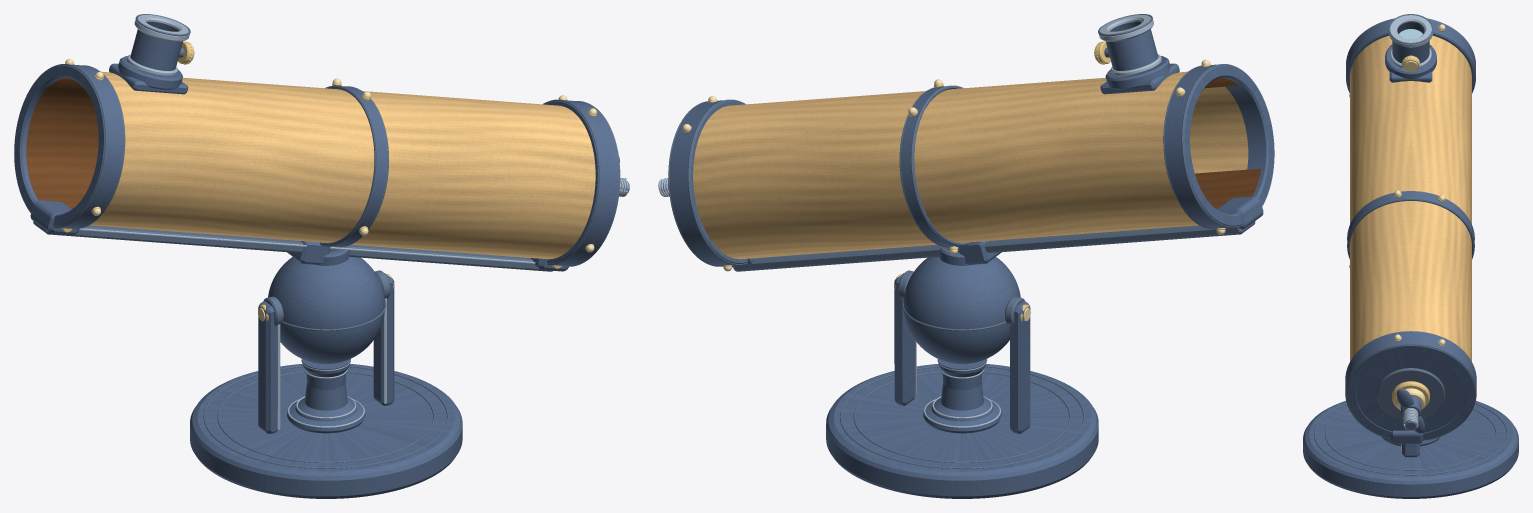
The model's file is Newton-Step2-Cover.glb.
3 renders of one model, left to right at view 1: azimuth 30°, elevation 25°; view 2: azimuth 150°, elevation 25°; view 3: azimuth 270°, elevation 25°, orthographic. The views are drawn at different scales.
Parts seen in each view (by area): view 1: Tube_BackShell, Base_CircularPedestal, Mount_SphericalJoint, Tube_BackInterior, Mount_LowerRail, Band_Front_Near, Band_Rear_Near, Mount_TurnedColumn, Mount_Upright_-1, Band_Front_Far, Band_Middle_Near, Tube_BackShell.001 (+8 smaller); view 2: Tube_BackShell.001, Base_CircularPedestal, Mount_SphericalJoint, Tube_BackShell, Mount_LowerRail, Band_Front_Far, Band_Rear_Far, Mount_TurnedColumn, Band_Front_Near, Mount_Upright_-1, Band_Middle_Far, Mount_Upright_1 (+7 smaller); view 3: Tube_BackShell, Tube_BackShell.001, Base_CircularPedestal, Tube_RearClosure, Band_Rear_Far, Band_Rear_Near, Tube_RearEndStep, Band_Front_Near, Eyepiece_UpperLip, Band_Front_Far, Band_Middle_Far, Band_Middle_Near (+11 smaller).
Boxes of the visible parts, <box> form: Tube_BackShell: <box>89,76,595,259</box>; Base_CircularPedestal: <box>190,364,462,498</box>; Mount_SphericalJoint: <box>268,256,384,363</box>; Tube_BackInterior: <box>26,78,98,208</box>; Mount_LowerRail: <box>33,221,553,271</box>; Band_Front_Near: <box>53,70,124,228</box>; Band_Rear_Near: <box>547,105,619,266</box>; Mount_TurnedColumn: <box>287,359,365,433</box>; Mount_Upright_-1: <box>258,301,277,433</box>; Band_Front_Far: <box>14,64,97,212</box>; Band_Middle_Near: <box>319,91,388,246</box>; Tube_BackShell.001: <box>101,71,570,110</box>; Tube_BackShell.001: <box>693,76,1198,259</box>; Base_CircularPedestal: <box>826,364,1098,498</box>; Mount_SphericalJoint: <box>903,257,1020,363</box>; Tube_BackShell: <box>717,71,1248,173</box>; Mount_LowerRail: <box>733,221,1255,271</box>; Band_Front_Far: <box>1164,70,1241,228</box>; Band_Rear_Far: <box>669,105,747,266</box>; Mount_TurnedColumn: <box>923,359,1001,433</box>; Band_Front_Near: <box>1190,64,1274,205</box>; Mount_Upright_-1: <box>1009,301,1030,433</box>; Band_Middle_Far: <box>899,91,968,246</box>; Mount_Upright_1: <box>894,273,914,405</box>; Tube_BackShell: <box>1350,36,1410,361</box>; Tube_BackShell.001: <box>1411,36,1471,361</box>; Base_CircularPedestal: <box>1303,401,1518,498</box>; Tube_RearClosure: <box>1356,352,1465,432</box>; Band_Rear_Far: <box>1411,332,1476,440</box>; Band_Rear_Near: <box>1345,332,1410,438</box>; Tube_RearEndStep: <box>1377,368,1444,419</box>; Band_Front_Near: <box>1346,19,1393,91</box>; Eyepiece_UpperLip: <box>1388,15,1433,47</box>; Band_Front_Far: <box>1428,19,1475,91</box>; Band_Middle_Far: <box>1411,191,1474,258</box>; Band_Middle_Near: <box>1347,191,1410,258</box>.
Size of the model in its own units: 8.87 by 6.7 by 3.54.
Materials: 11 (5 with a texture image).
